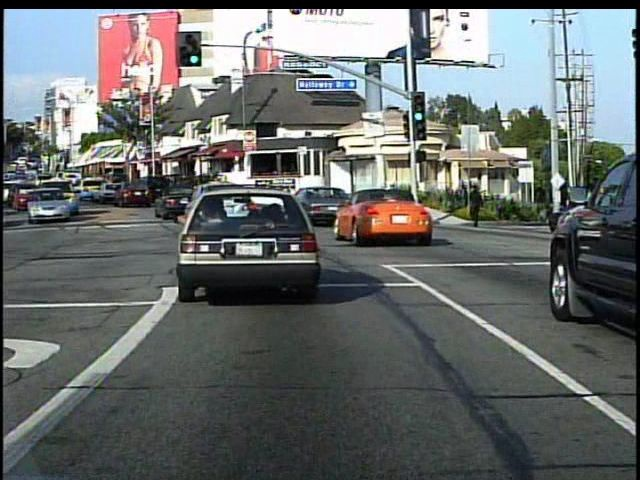person: (555, 183, 578, 244), (463, 182, 485, 230)
